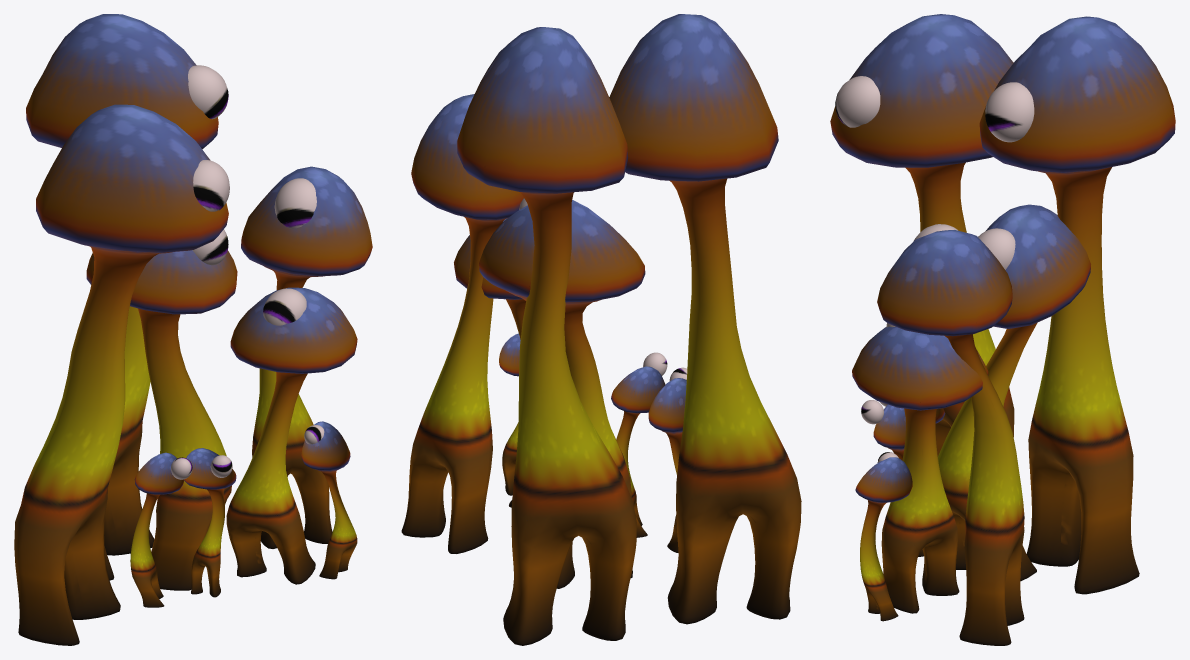
The model's file is Shroom1Cluster1.fbx.
3 views of the same model, side by side, from view 1: azimuth 30°, elevation 25°; view 2: azimuth 150°, elevation 25°; view 3: azimuth 270°, elevation 25° (orthographic). The views are drawn at different scales.
Visible parts, largest first — view 1: Shroom1Cluster; view 2: Shroom1Cluster; view 3: Shroom1Cluster.
Boxes of the visible parts, x1,y1,x2,y2 form: Shroom1Cluster: (14, 14, 372, 645); Shroom1Cluster: (401, 14, 801, 645); Shroom1Cluster: (830, 14, 1175, 645).
Size of the model in its own units: 7.07 by 10.63 by 5.94.
